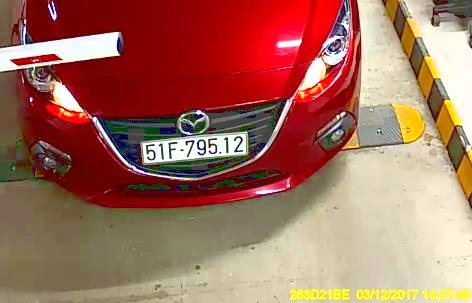plate: (138, 134, 249, 161)
